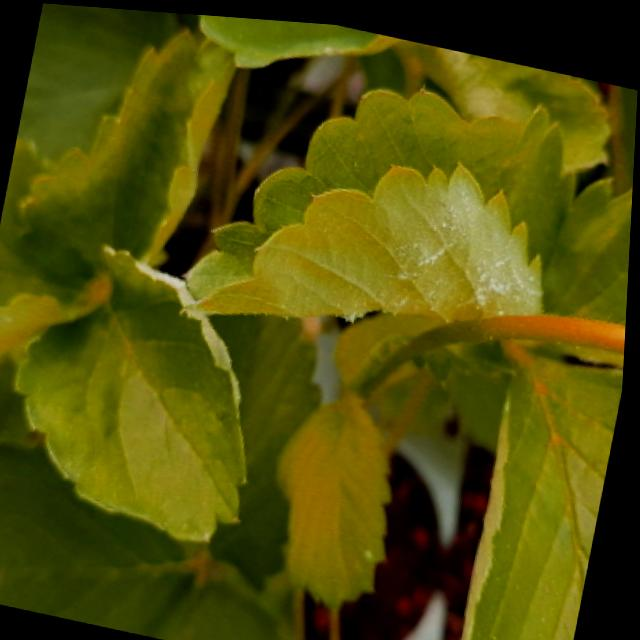Powdery Mildew Leaf: (177, 79, 582, 317), (12, 241, 253, 541), (396, 32, 618, 161), (544, 162, 635, 359)
